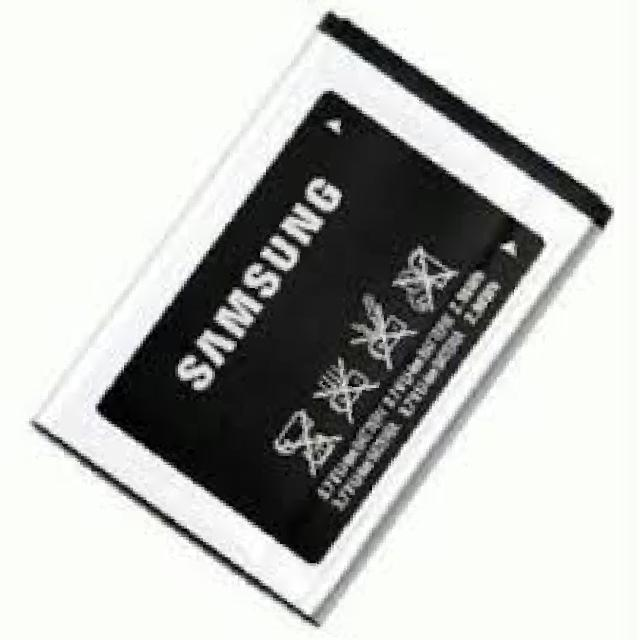Battery: (21, 7, 627, 640)
